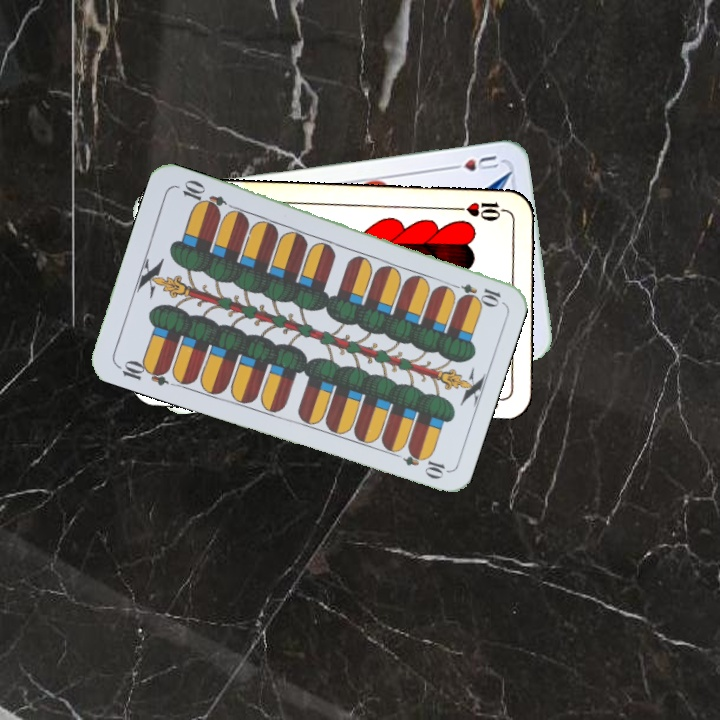E10: (113, 356, 172, 389), (445, 279, 503, 307)
H10: (452, 197, 511, 223)
HU: (443, 151, 501, 174)
